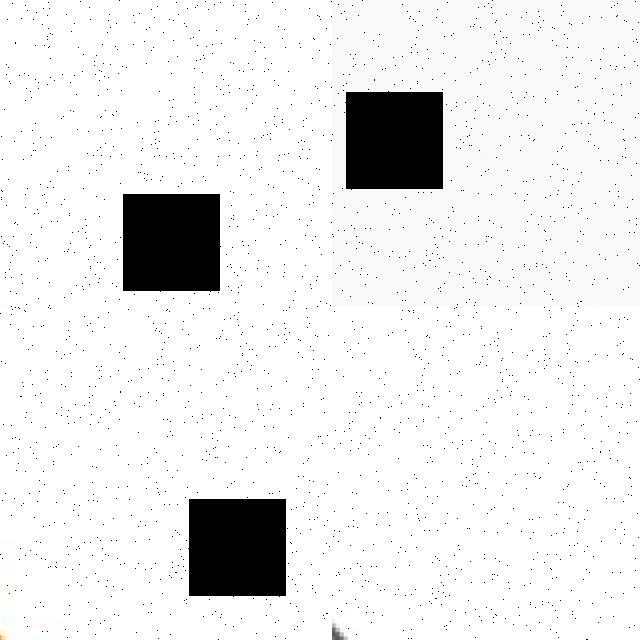Mechanical Pencilrotation: (332, 0, 640, 307)
PaperCliprotation: (332, 307, 640, 640)
Pencil Caserotation: (0, 116, 332, 307)
Pencilrotation: (0, 307, 332, 640)
